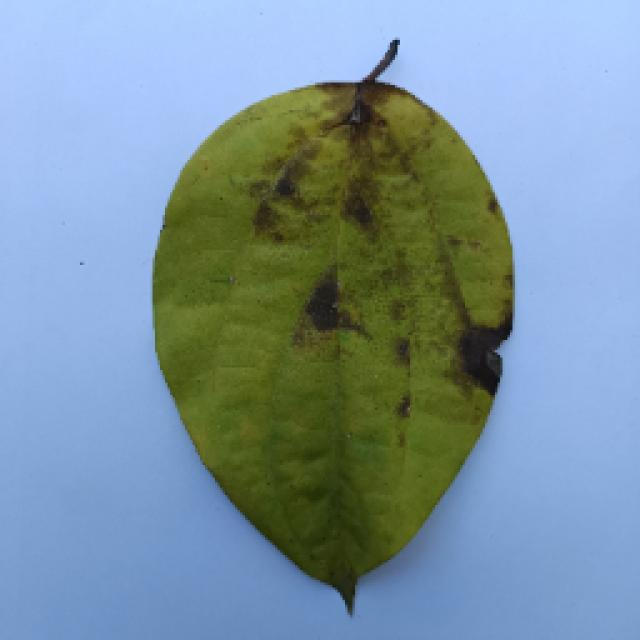slow-decline: (147, 62, 515, 610)
